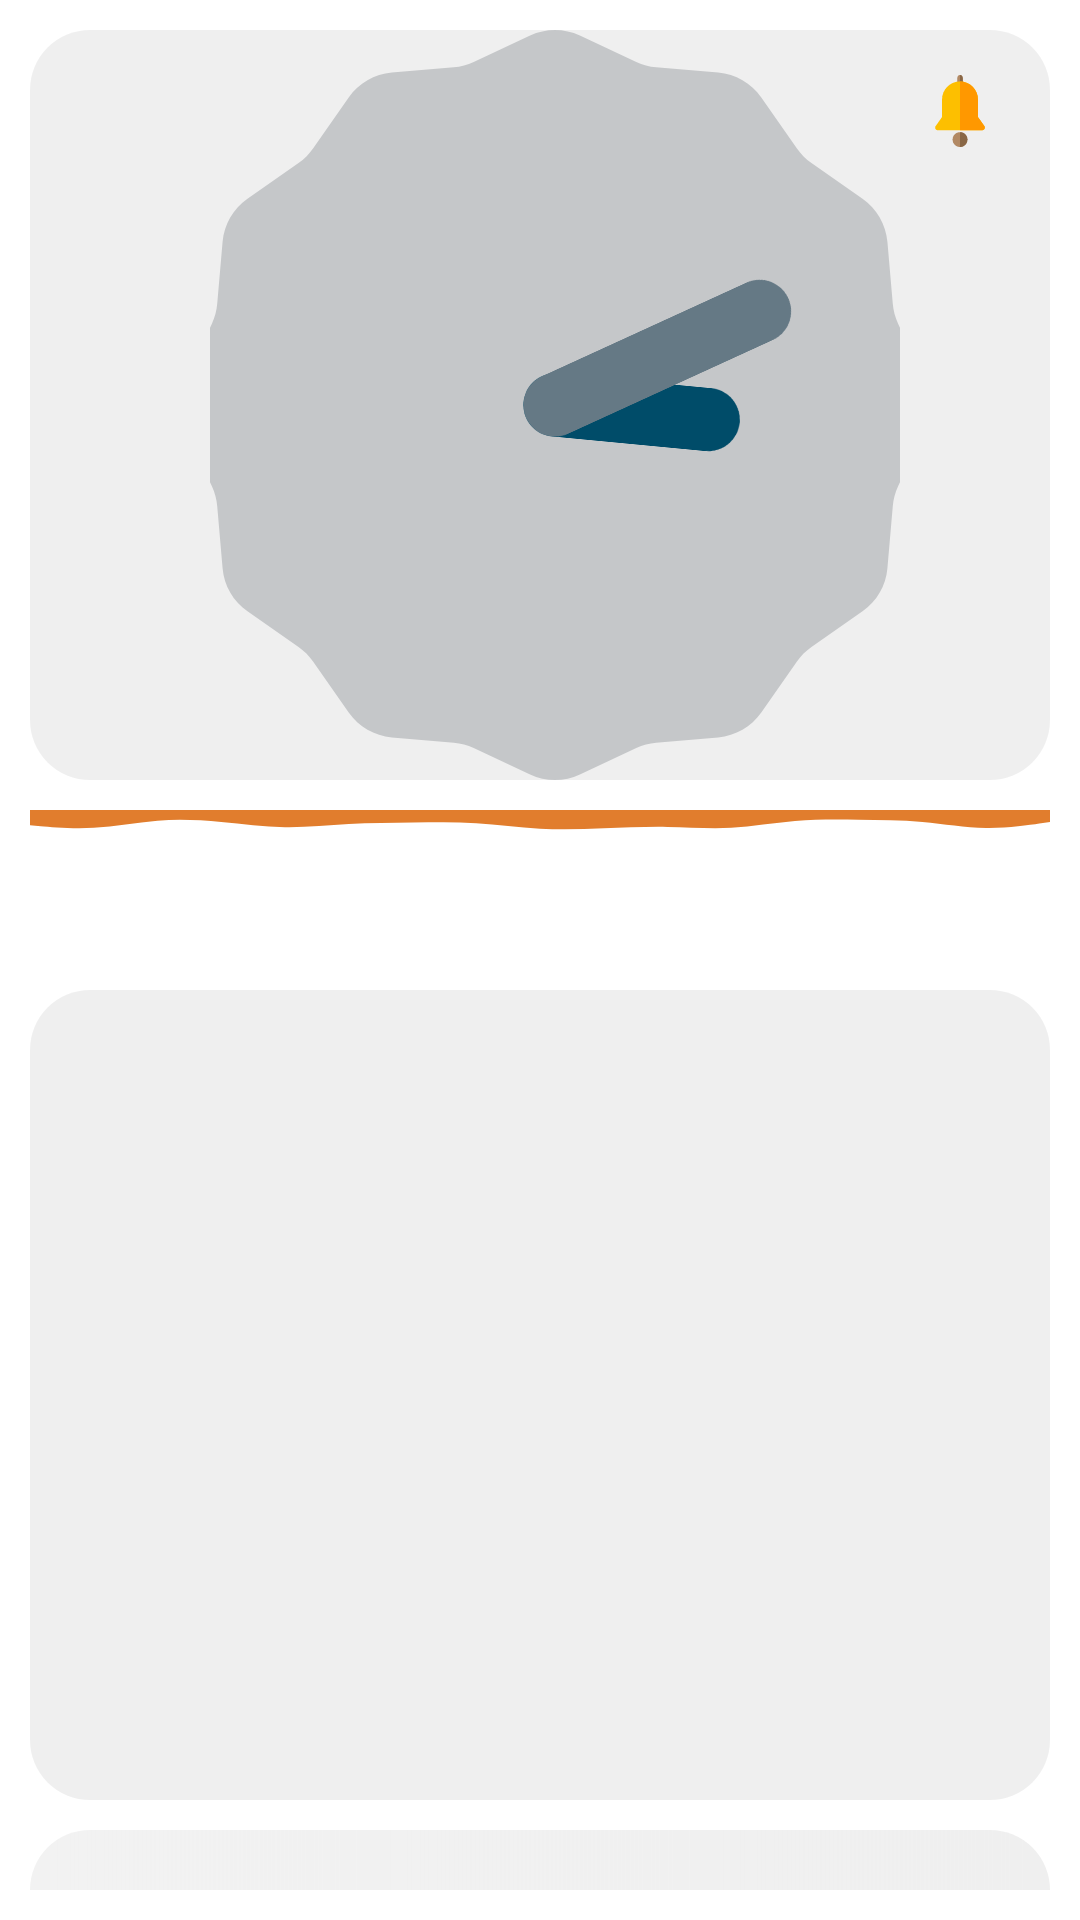

Icon click points for this 1080 x 1920 phone screenshot, format [x,y]:
notification: [960,111]
